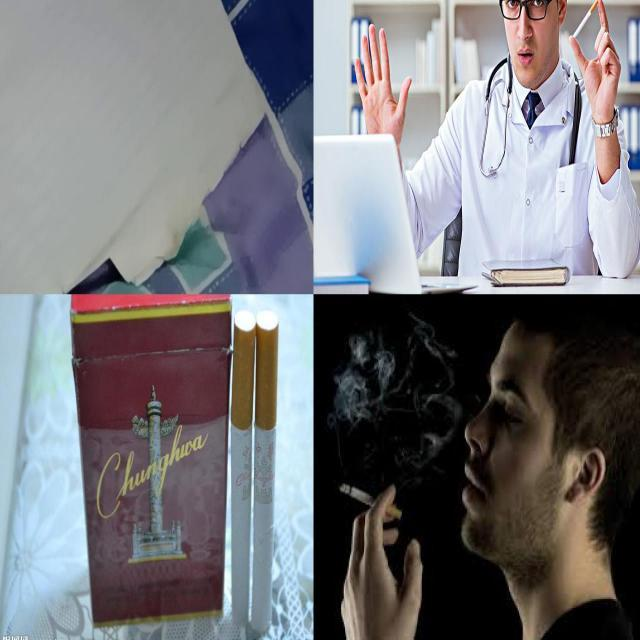smoke: (251, 310, 279, 632), (230, 310, 256, 624), (340, 484, 402, 520), (572, 0, 601, 39)
